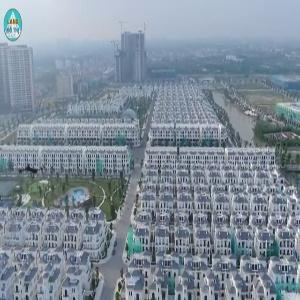drone: (11, 150, 56, 195)
